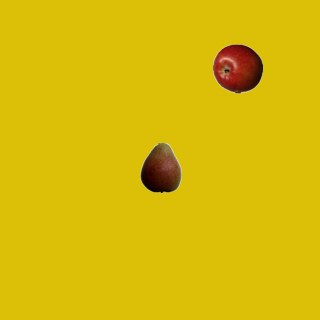Apple Braeburn: (212, 43, 262, 93)
Pear Forelle: (135, 142, 185, 192)
